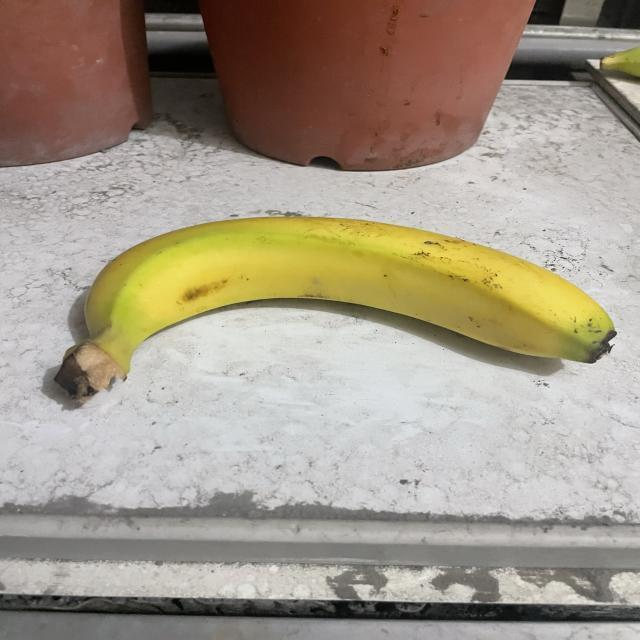Banana: (49, 211, 620, 402)
